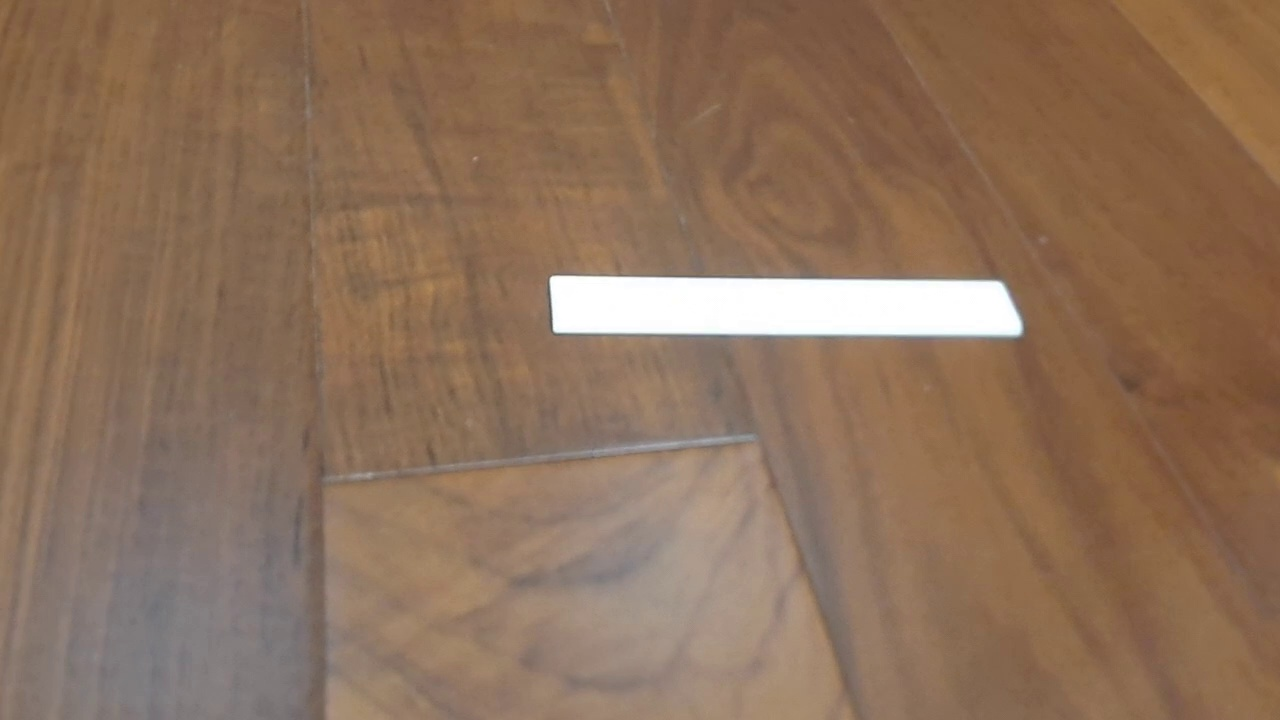ruler: (547, 273, 1026, 339)
